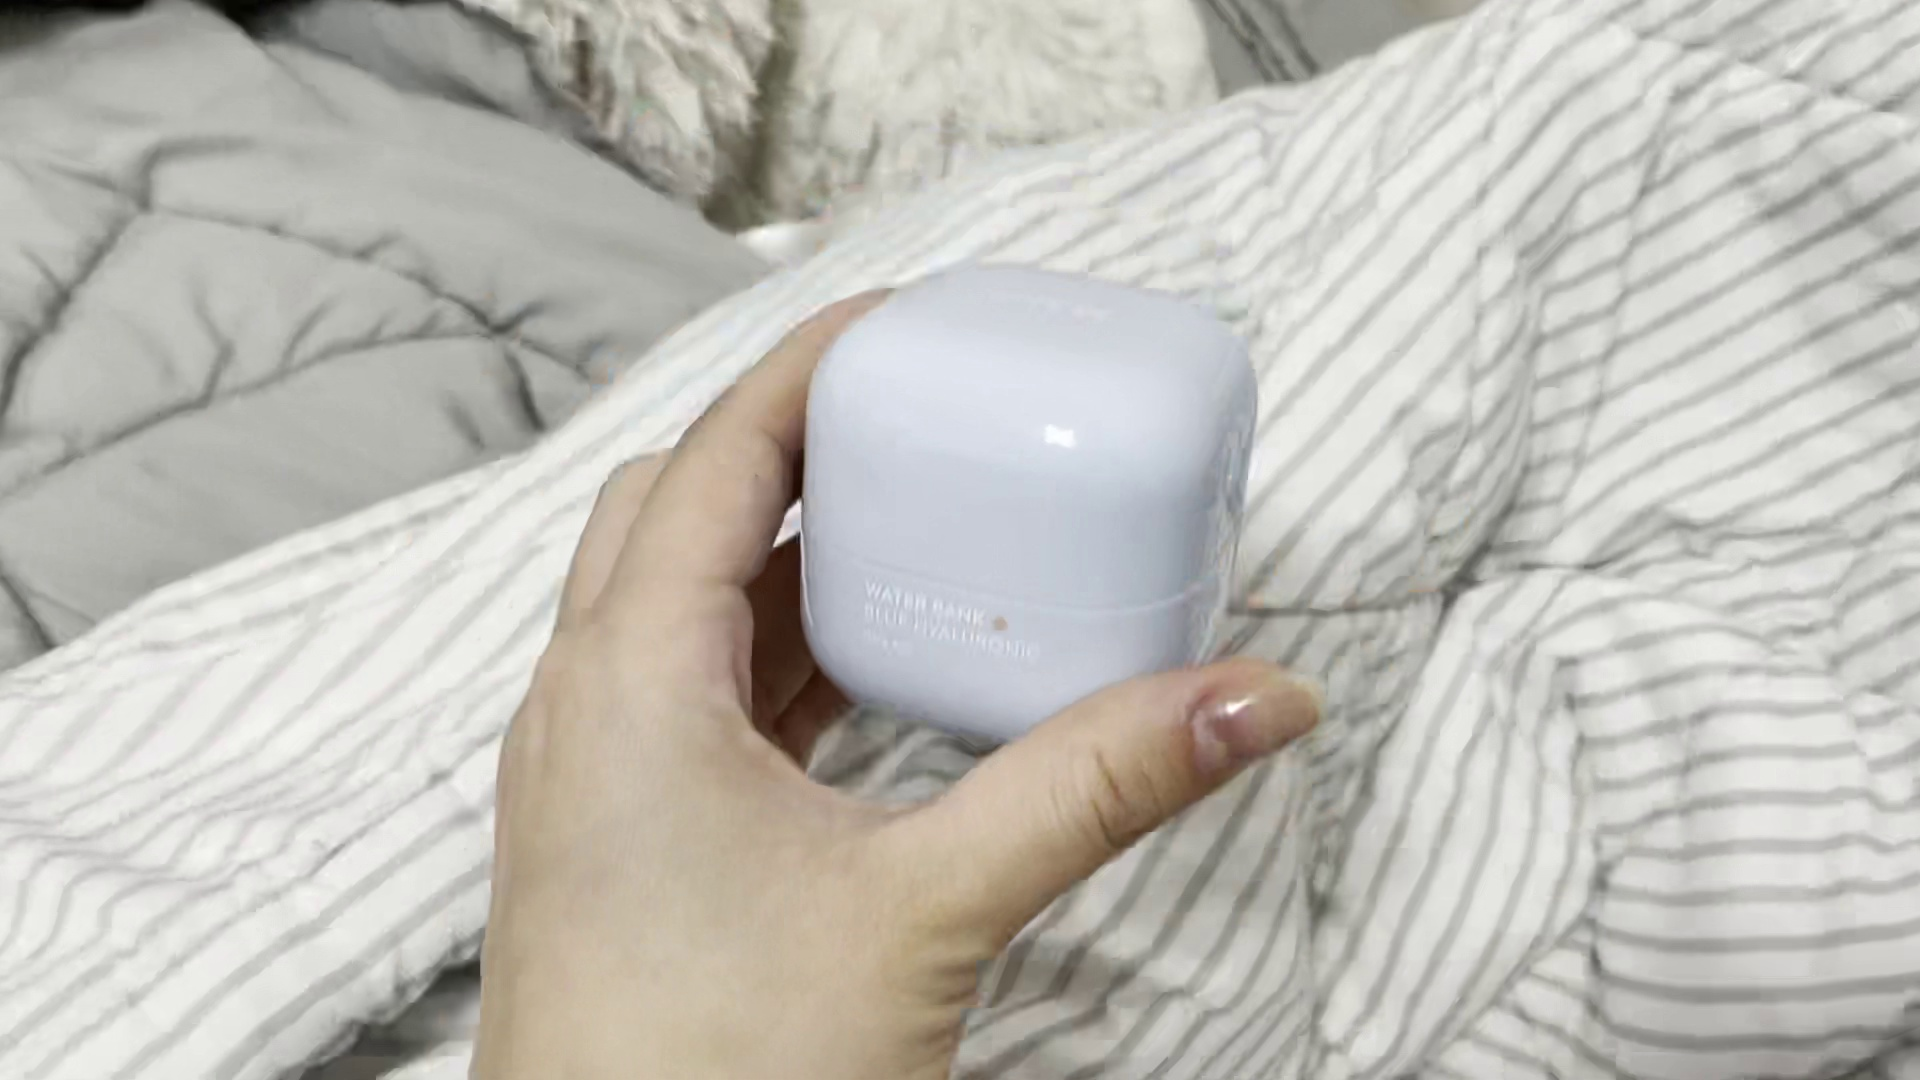cream: (800, 256, 1259, 741)
